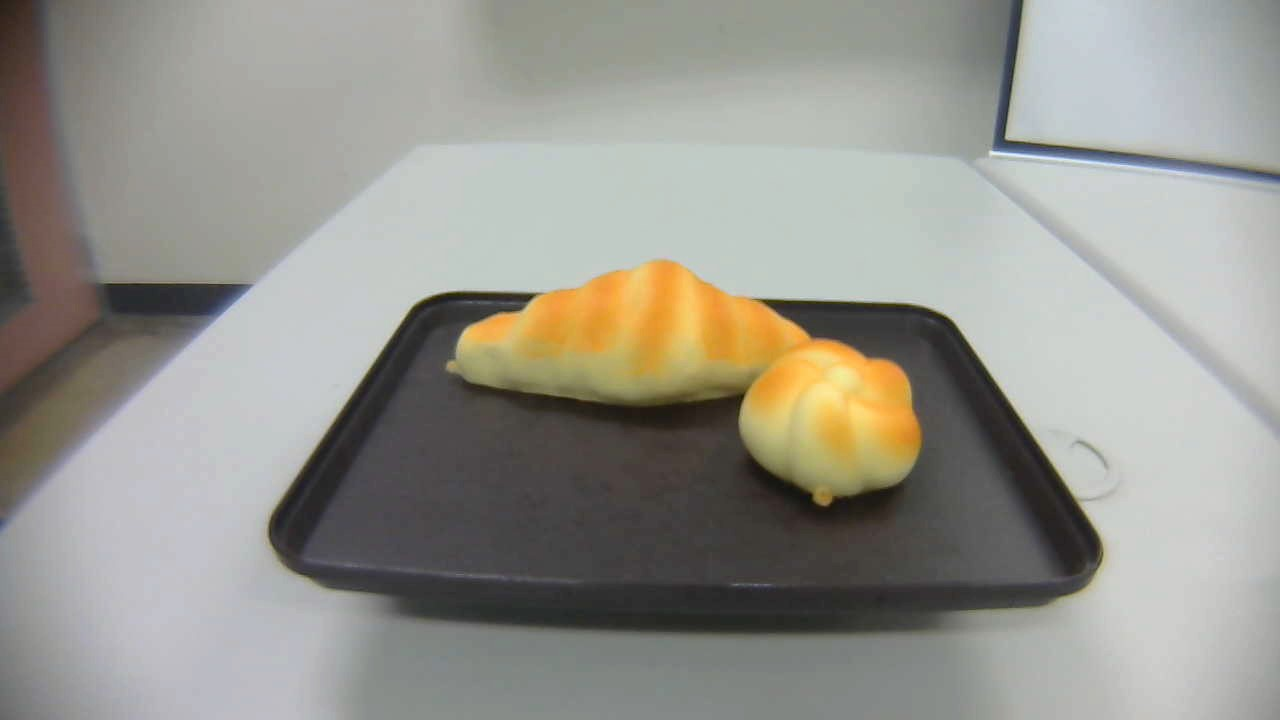croissant: (444, 257, 814, 411)
twist bread: (736, 336, 923, 511)
